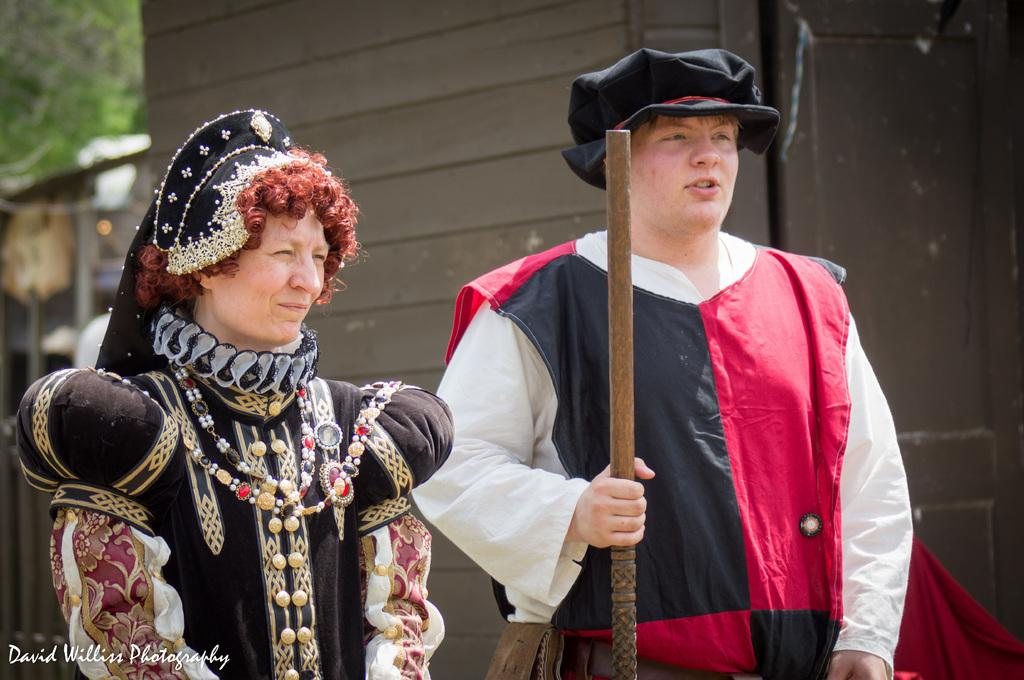Hat: (561, 44, 780, 190)
